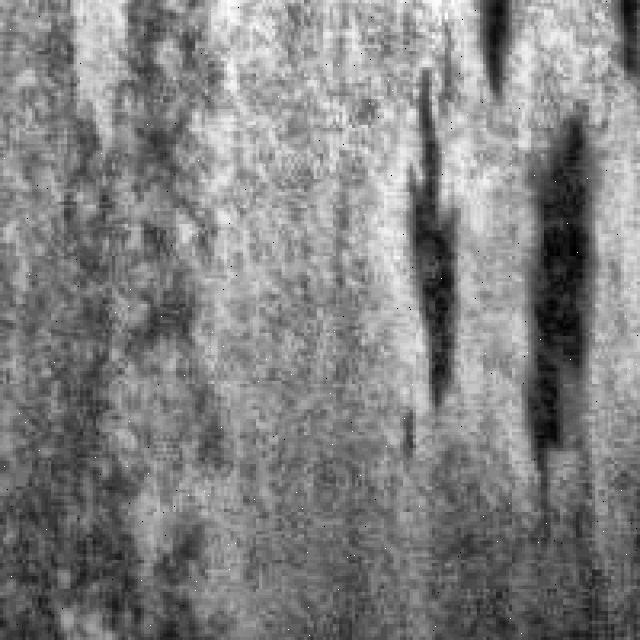Patches: (512, 106, 605, 480), (384, 61, 461, 416), (467, 0, 522, 93)
